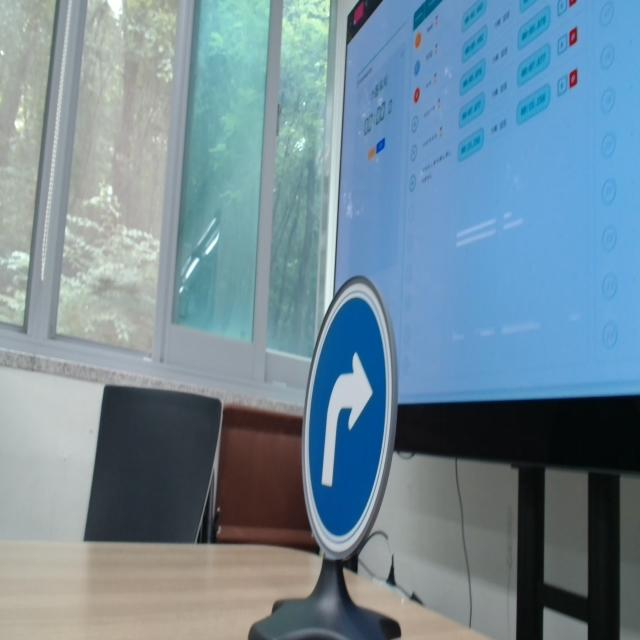right_dierection: (295, 250, 407, 602)
